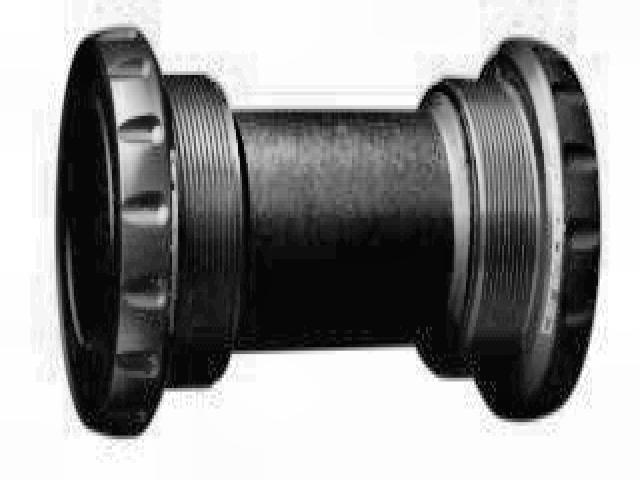bottom_bracket: (51, 21, 605, 446)
